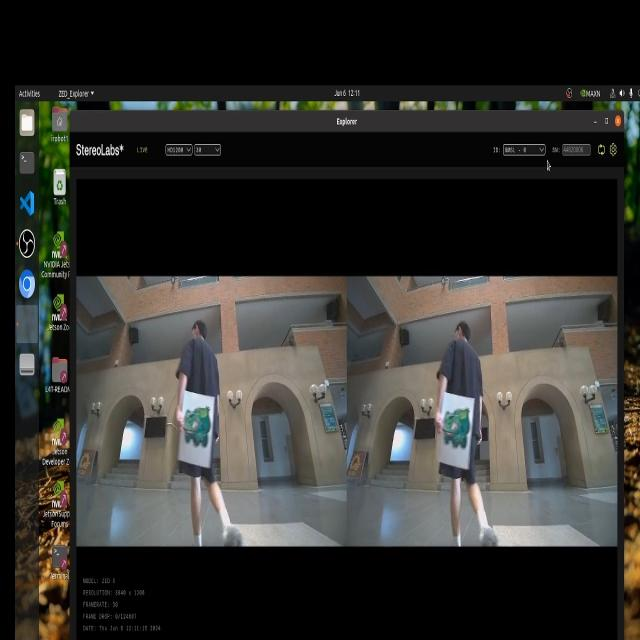green: (441, 400, 470, 456), (188, 404, 218, 457)
